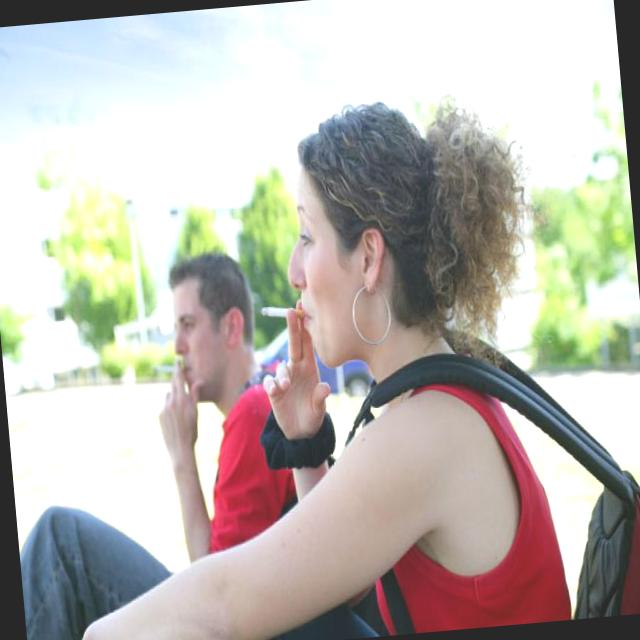smoke: (258, 292, 312, 343)
